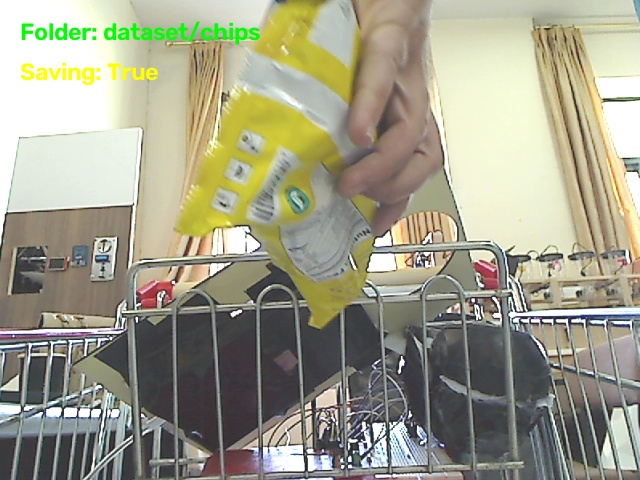chips: (176, 0, 376, 327)
